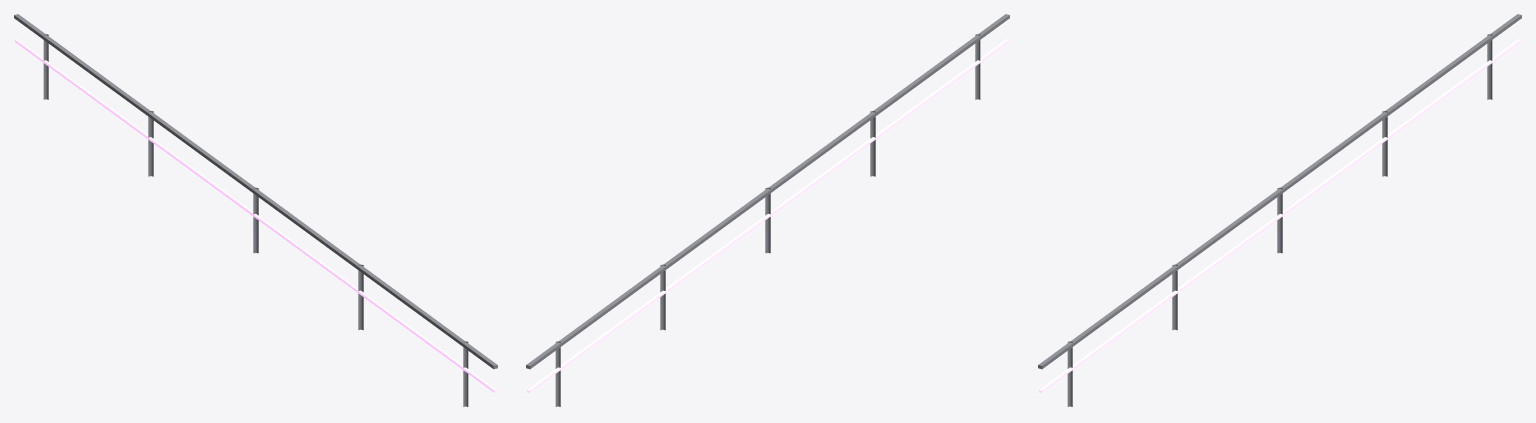
File: railing.glb
3 renders of one model, left to right at view 1: azimuth 30°, elevation 25°; view 2: azimuth 150°, elevation 25°; view 3: azimuth 330°, elevation 25°, orthographic.
Parts seen in each view (by area): view 1: railing; view 2: railing; view 3: railing.
Boxes of the visible parts, box(x1,y1,x2,y2) form: railing: box(14, 14, 497, 406); railing: box(526, 14, 1009, 406); railing: box(1038, 14, 1521, 406).
Size of the model in its own units: 0.1 by 1.2 by 16.
